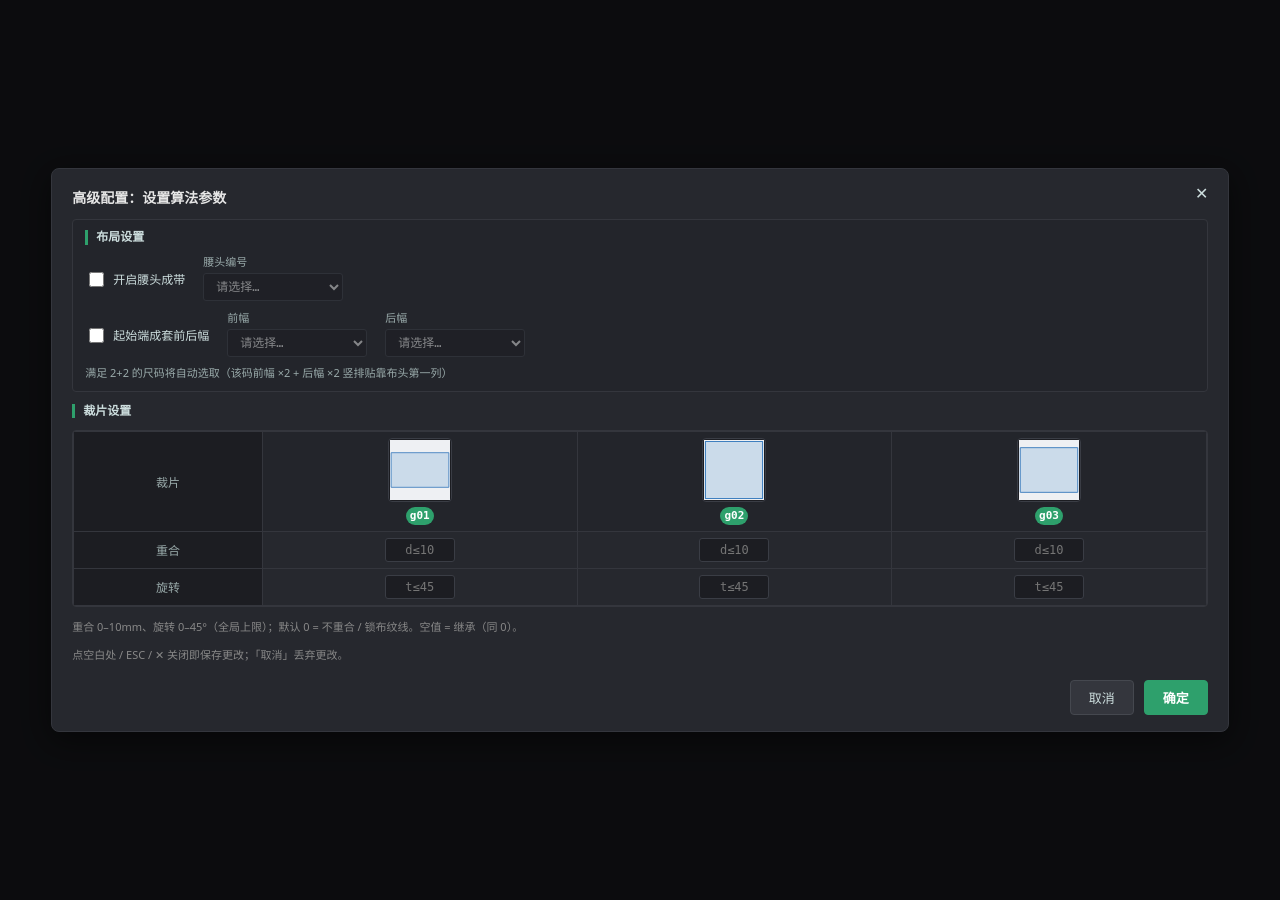
Test: PerTypeOverridesModal 布局设置 prefix 分区 (US-004) › 有补片（5 片）→ 缩略 5 成员自动渲染 + 异码色 size_color(29) + 放大层文案追加「＋ 顶部 g02@29 异码片 · 余 210mm 近满幅」
Click the checkbox with test id "prefix-enabled".
click(97, 335)  # box [89, 328, 104, 342]
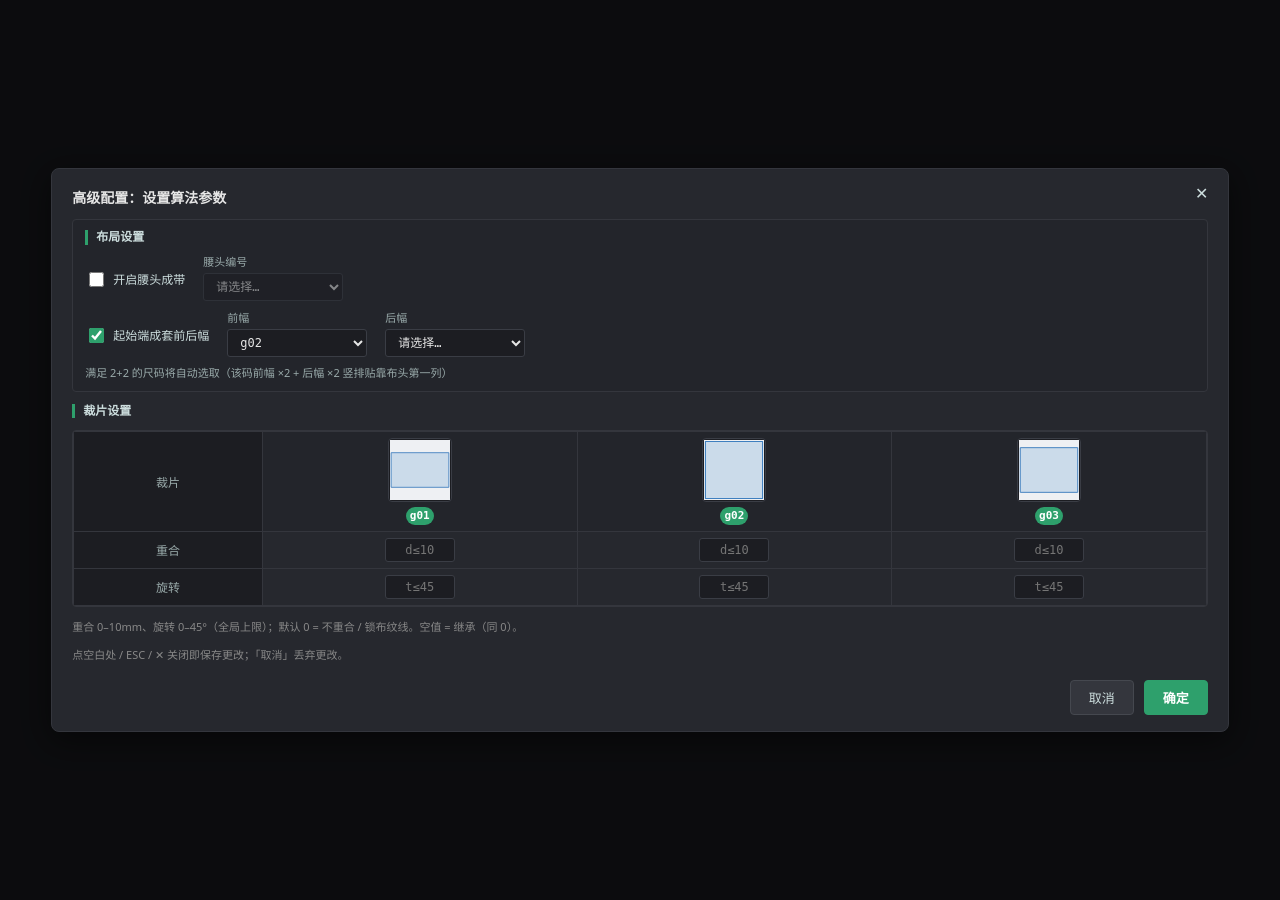
Select "g02" in the dropdown with test id "prefix-front-select" at x=297, y=342, box [227, 328, 367, 356]
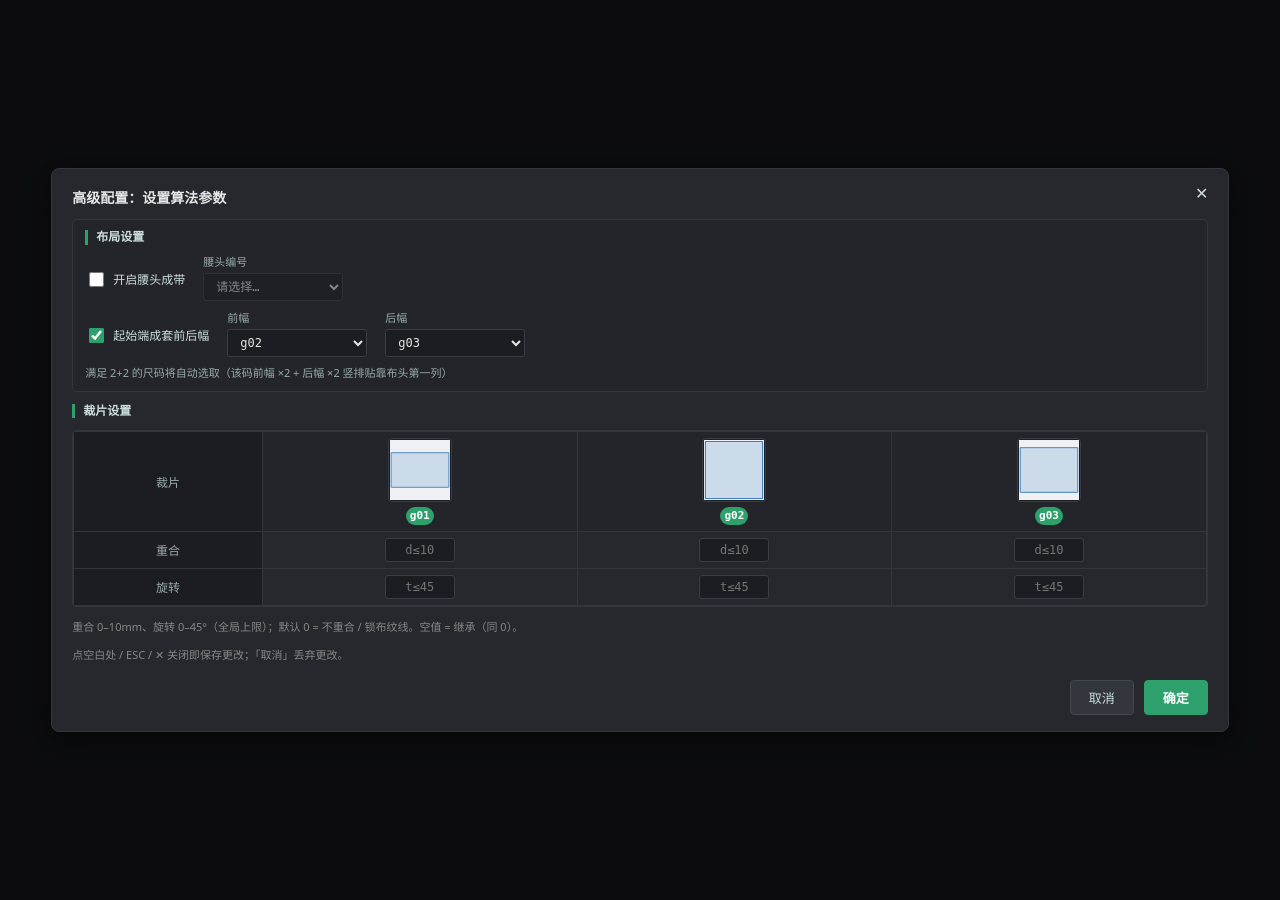
Select "g03" in the dropdown with test id "prefix-back-select" at x=455, y=342, box [385, 328, 525, 356]
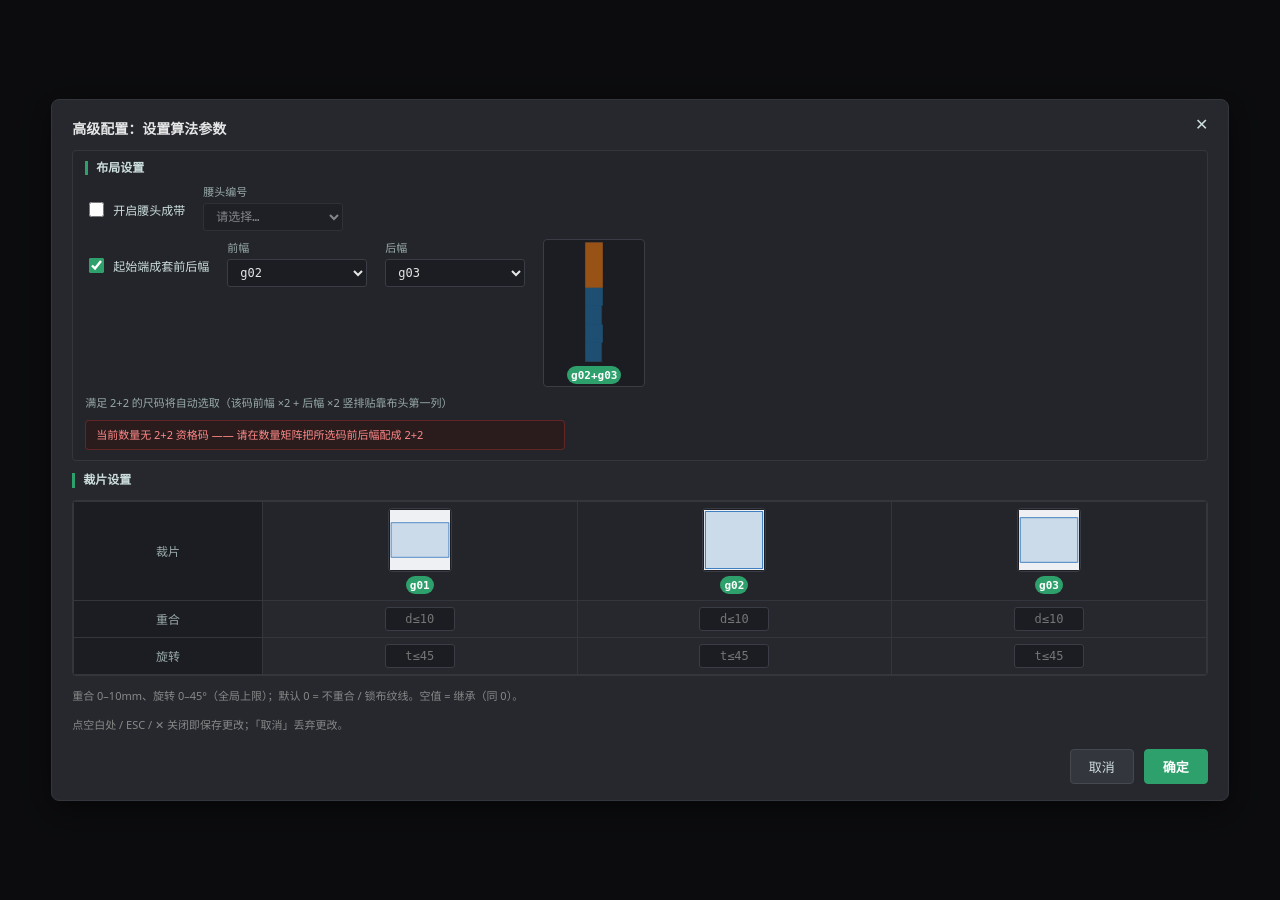
expect the button with test id "prefix-thumb-g02+g03" is shown: met
Click the button with test id "prefix-thumb-g02+g03".
click(594, 313)  # box [543, 239, 645, 387]
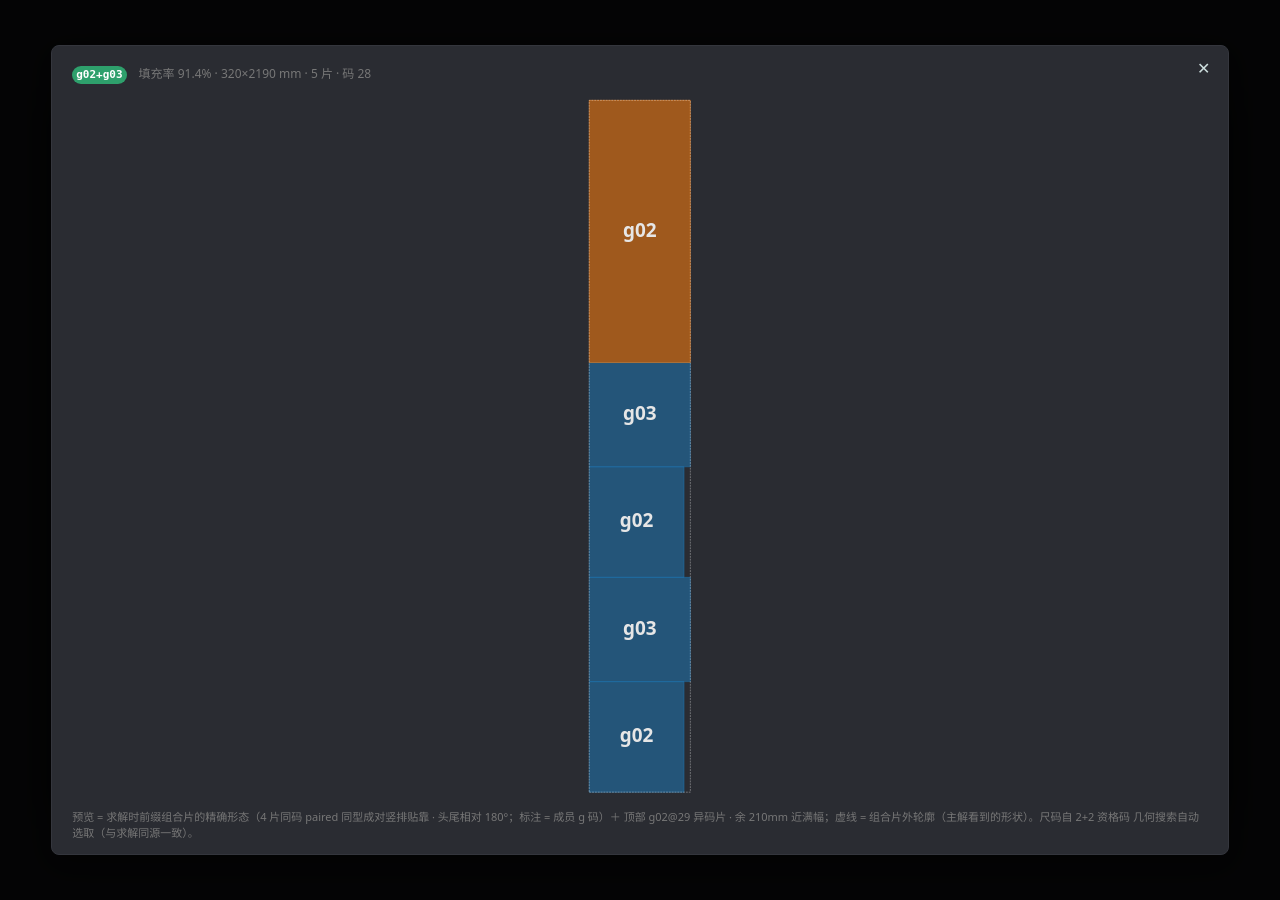
expect the text with class "band-zoom-hint" shows "＋ 顶部 g02@29 异码片 · 余 210mm 近满幅": met, box [610, 809, 824, 824]
expect the text with class "band-zoom-hint" shows "4 片同码 paired 同型成对竖排贴靠": met, box [72, 809, 610, 824]
expect the text with class "band-zoom-hint" shows "虚线 = 组合片外轮廓": met, box [72, 809, 1199, 840]
Click the button with test id "prefix-zoom-close".
click(1204, 68)  # box [1190, 54, 1218, 82]
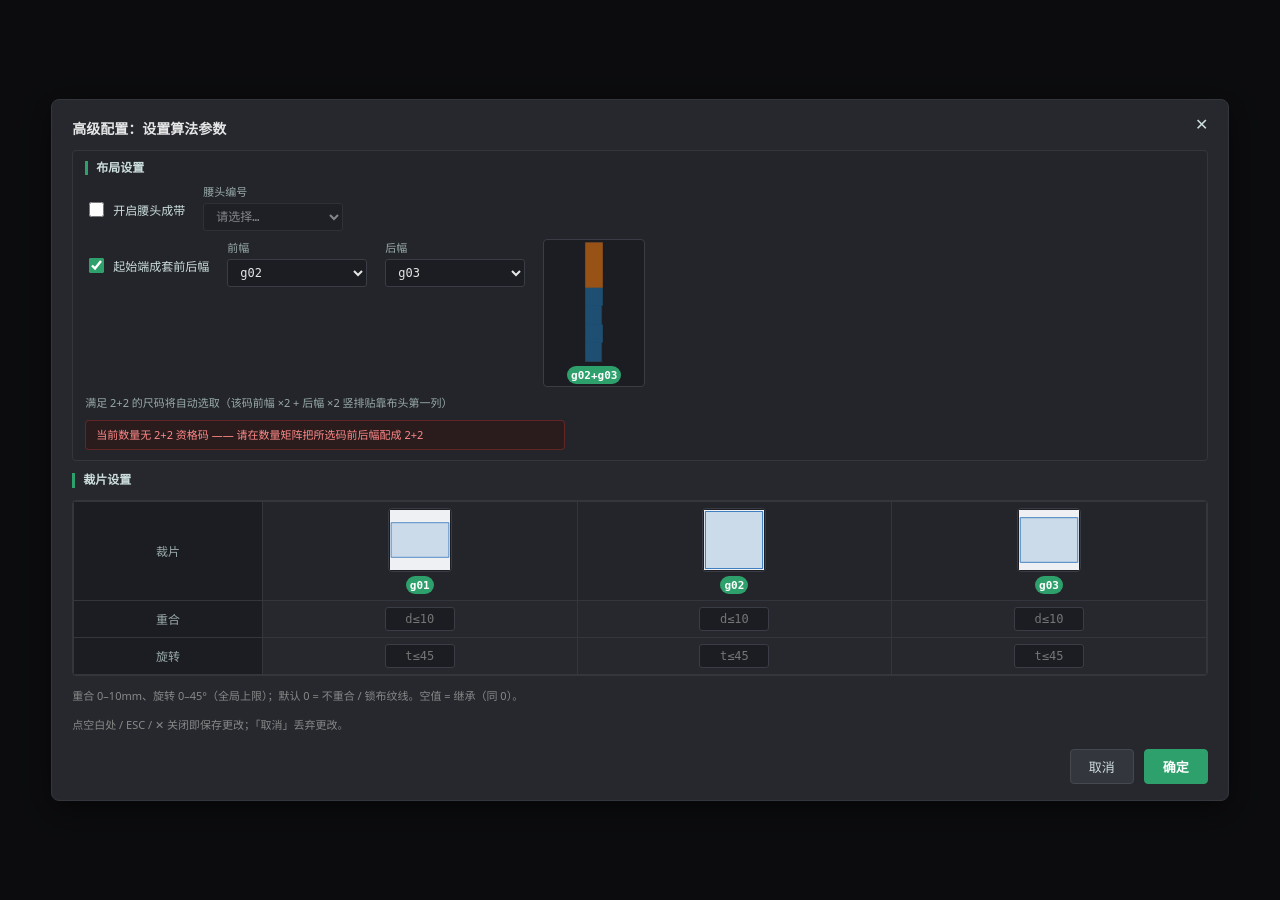
expect the element with test id "prefix-zoom-overlay" is gone: met
